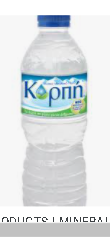Bottle: (21, 15, 92, 209)
